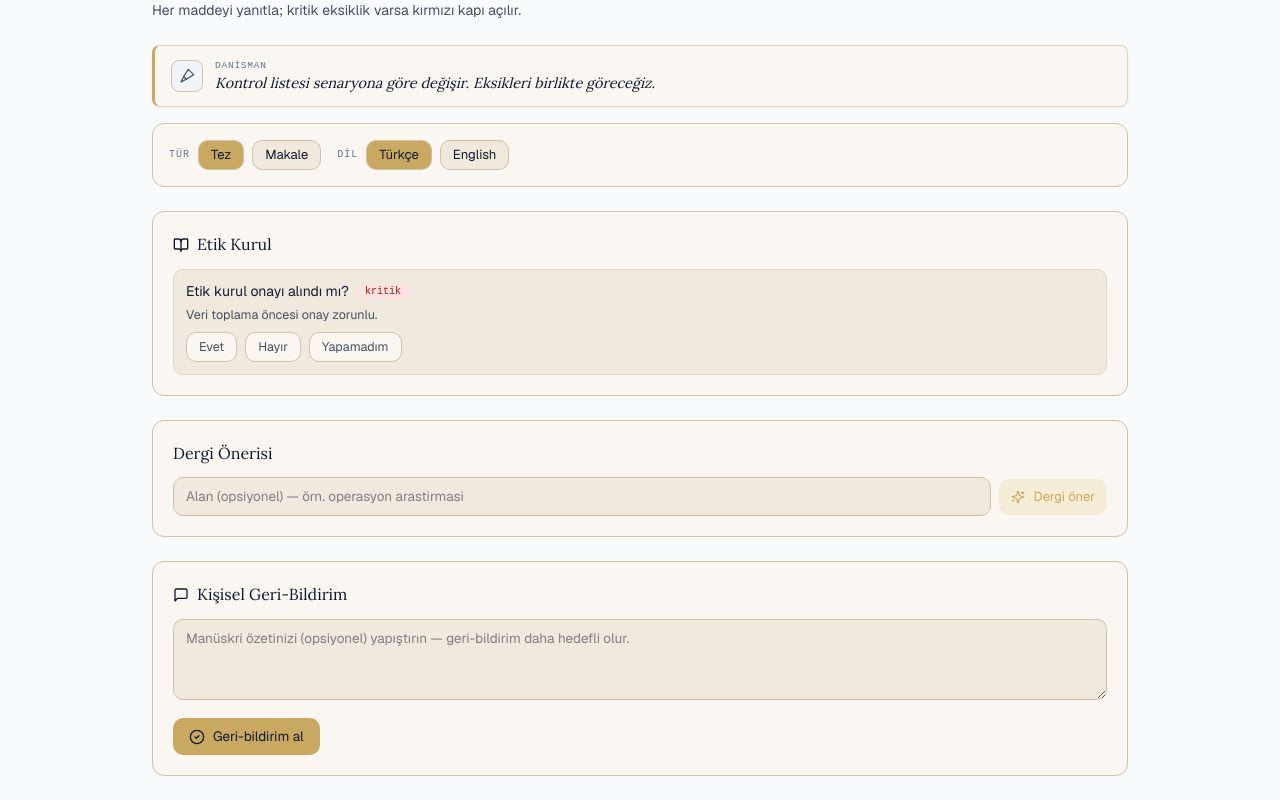
it: IndividualFeedbackPage › Geri-bildirim al → personal-feedback POST + paragraf + weak_areas
The image size is (1280, 800).
(page scrolled)
Expected: the text "Etik kurul onayı alındı mı?kritik" is shown, [186, 282, 409, 300]
Click the button "Geri-bildirim al" at (246, 737), box [173, 718, 320, 755]
(page scrolled)
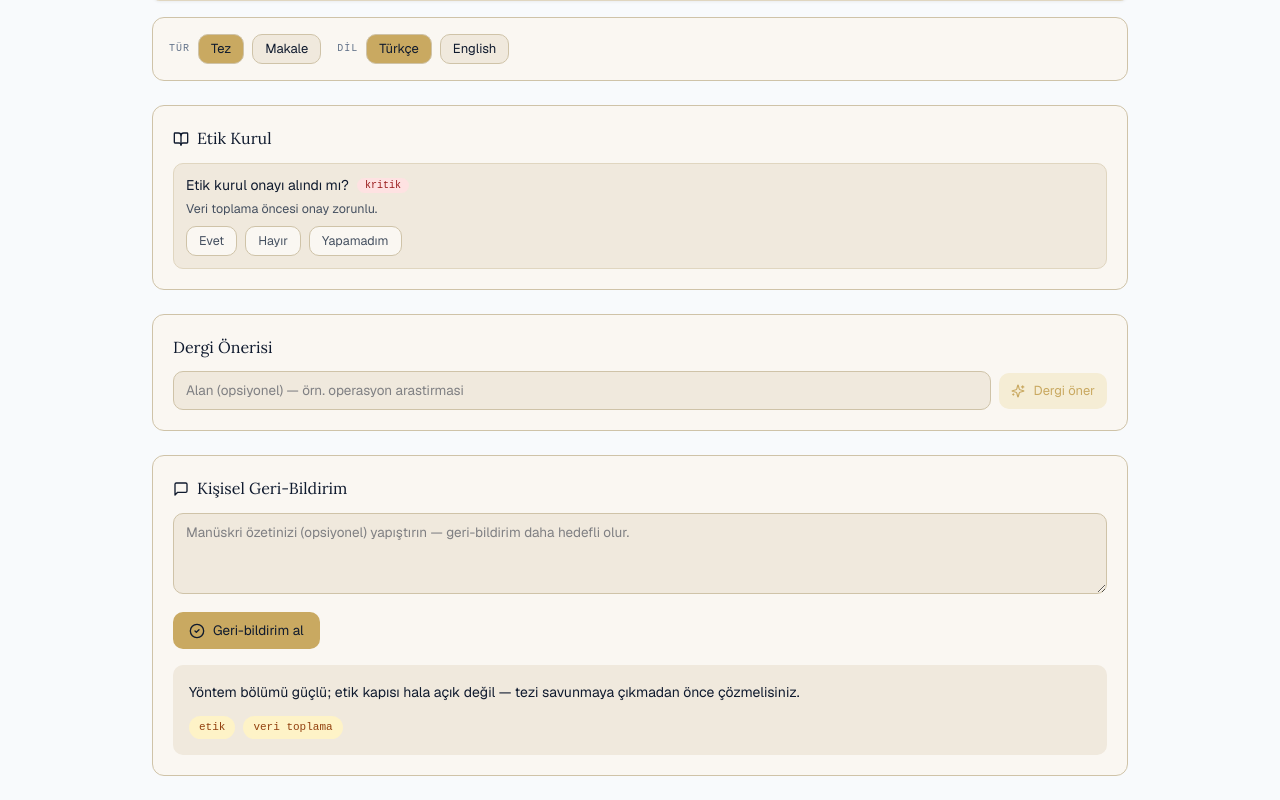
Now the text "Yöntem bölümü güçlü" is shown, box [189, 683, 800, 701]
Now the text "etik" is shown, box [189, 716, 235, 739]
Now the text "veri toplama" is shown, box [243, 716, 343, 739]
